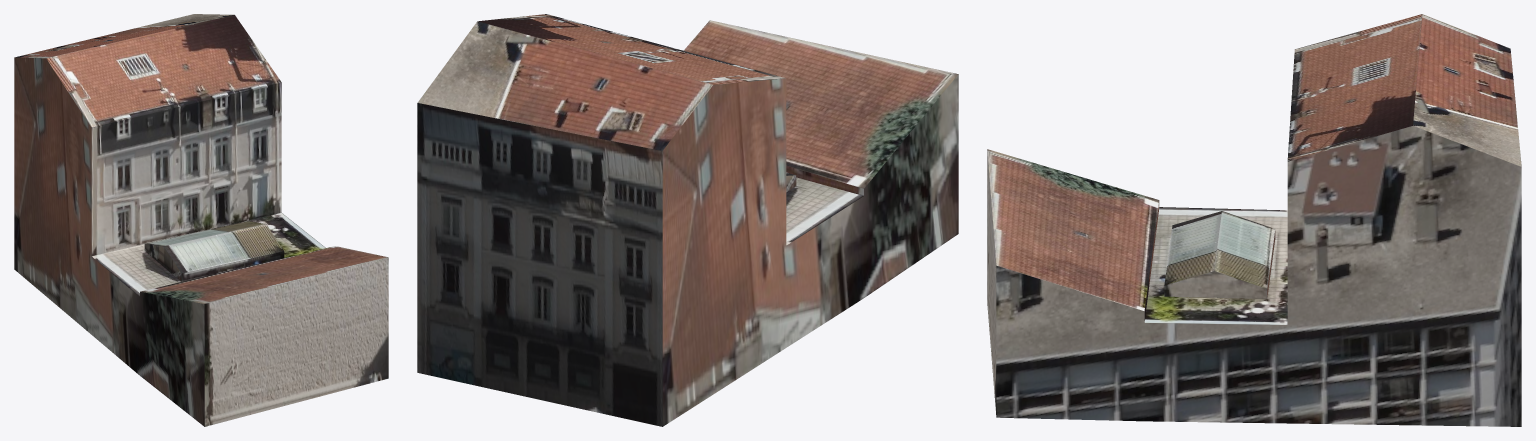
The picture shows the model from 3 angles, left to right: view 1: azimuth 30°, elevation 25°; view 2: azimuth 150°, elevation 25°; view 3: azimuth 270°, elevation 25°; orthographic projection. The views are drawn at different scales.
Parts seen in each view (by area): view 1: Z_UP; view 2: Z_UP; view 3: Z_UP.
Part boxes in pixels (left/top/right/bottom): Z_UP: left=14, top=14, right=388, bottom=426; Z_UP: left=417, top=14, right=958, bottom=426; Z_UP: left=987, top=14, right=1521, bottom=426.
Bounding box in the file's own units: 17.23 × 19.43 × 31.41.
Materials: 2 (1 with a texture image).
